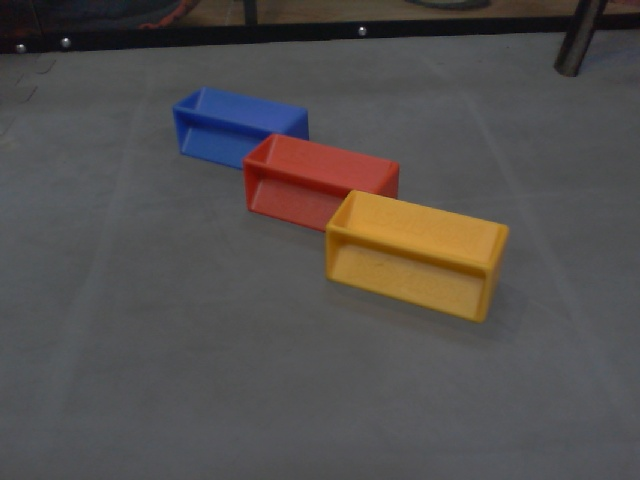BlueSample: (169, 82, 310, 172)
RedSample: (238, 133, 402, 232)
YellowSample: (319, 189, 509, 327)
